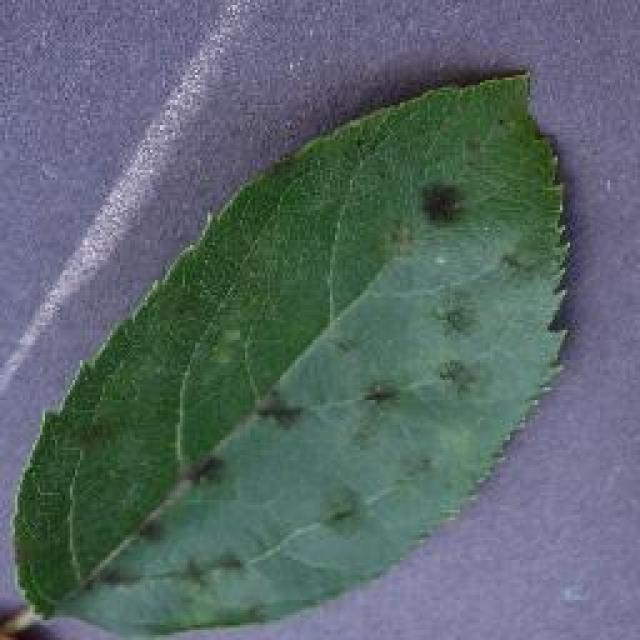apple scab disease: (8, 65, 578, 637)
